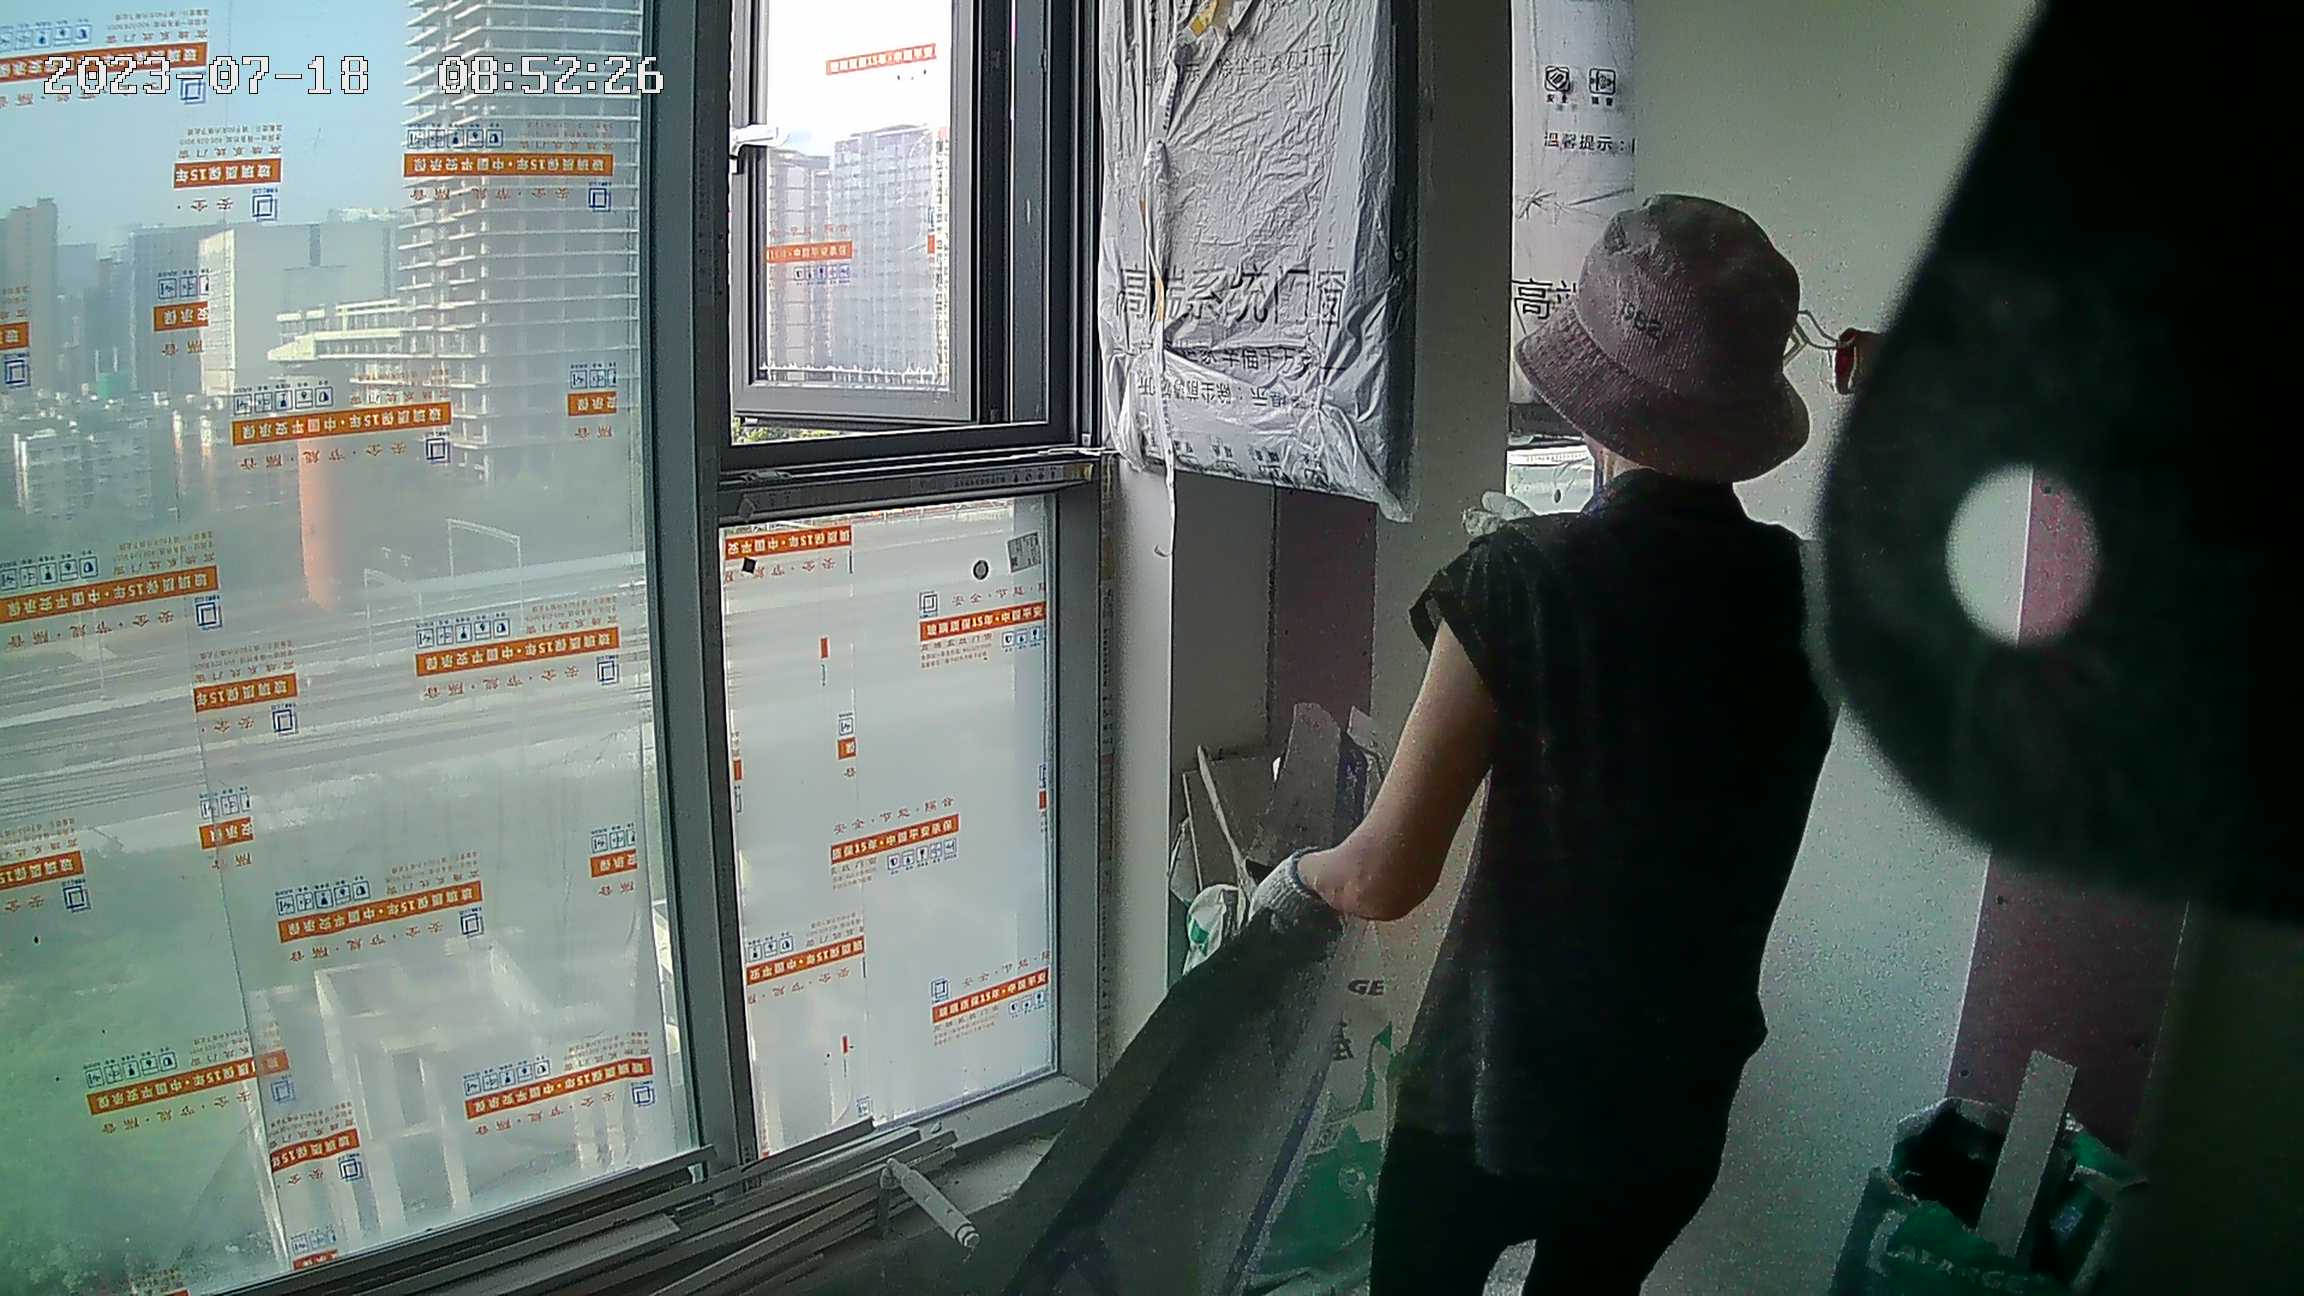people: (1292, 188, 1844, 1296)
window: (1, 1, 1109, 1268)
